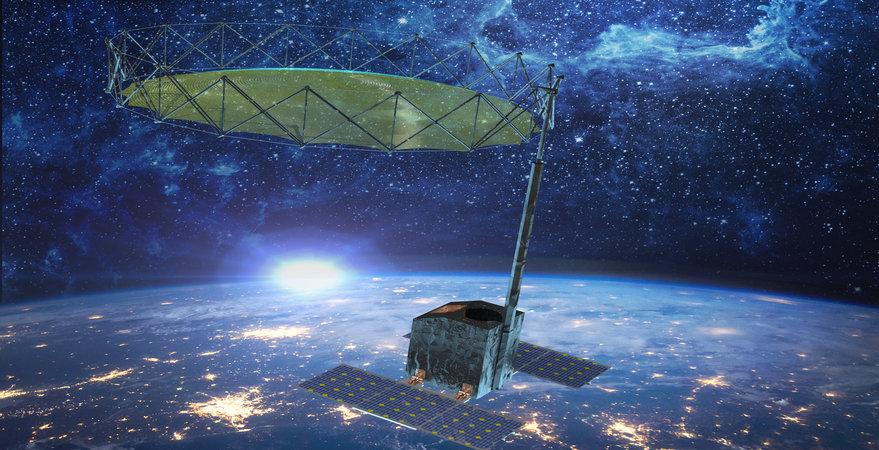antenna: (117, 65, 546, 151)
body: (408, 299, 526, 400)
solar: (297, 361, 528, 450), (404, 314, 614, 391)
